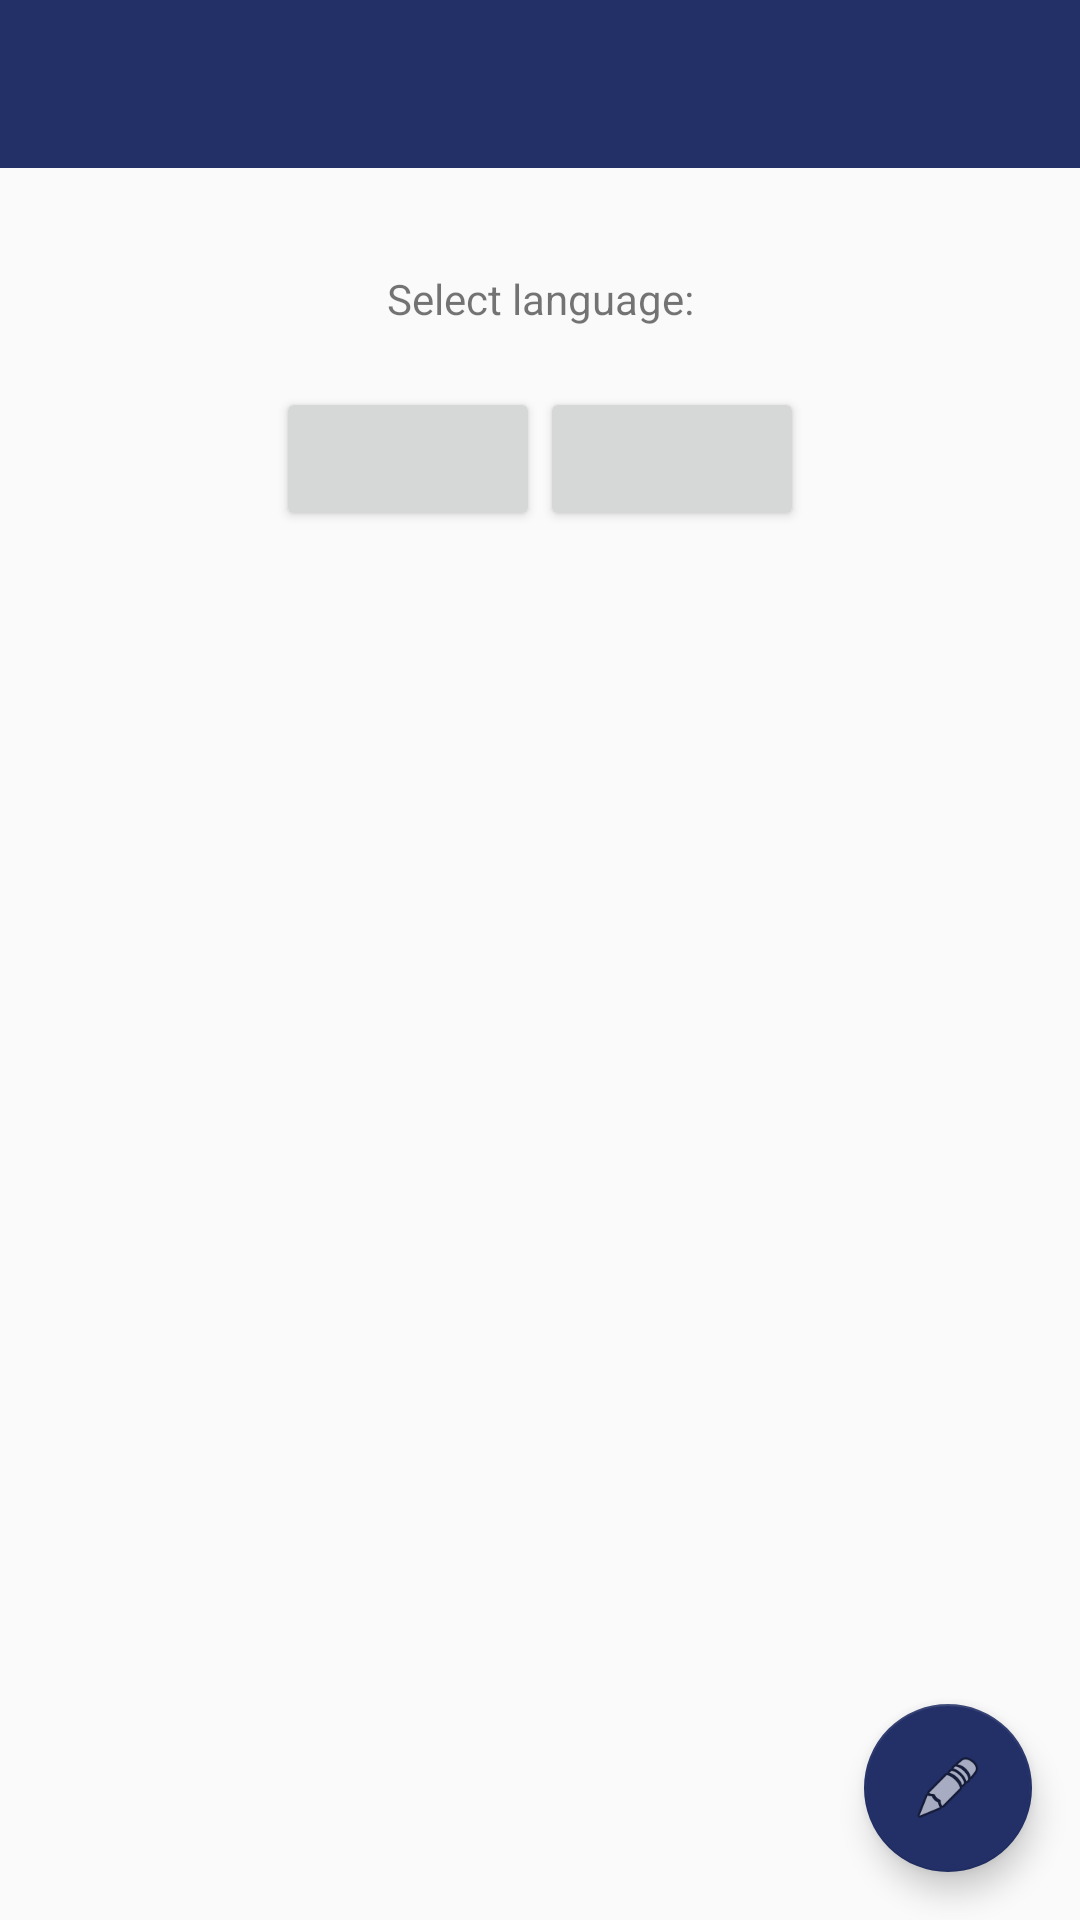

Where icons sit on this 1080×1920 app screen, as (x1, y1, x2, y2):
edit: (864, 1704, 1032, 1872)
